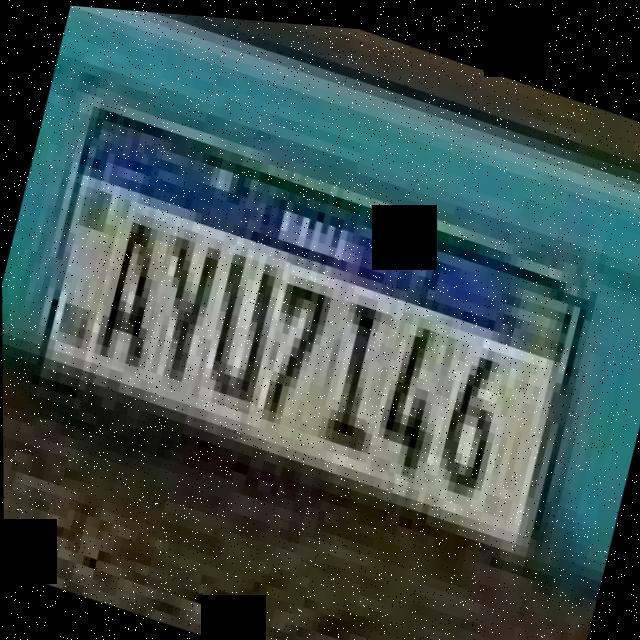4: (368, 297, 461, 481)
6: (427, 320, 518, 498)
7: (249, 260, 335, 429)
A: (88, 198, 177, 374)
I: (312, 280, 395, 446)
U: (195, 238, 290, 411)
Y: (140, 214, 228, 395)
